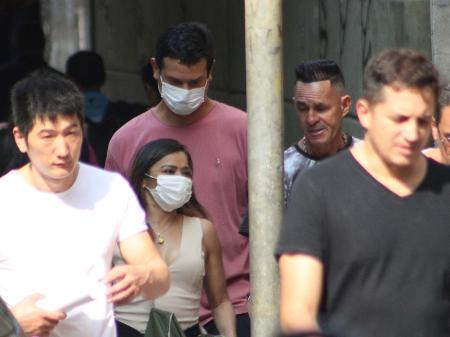with_mask: (151, 54, 213, 117), (142, 157, 193, 215)
without_mask: (364, 90, 437, 170), (12, 114, 85, 180), (290, 79, 346, 144)
